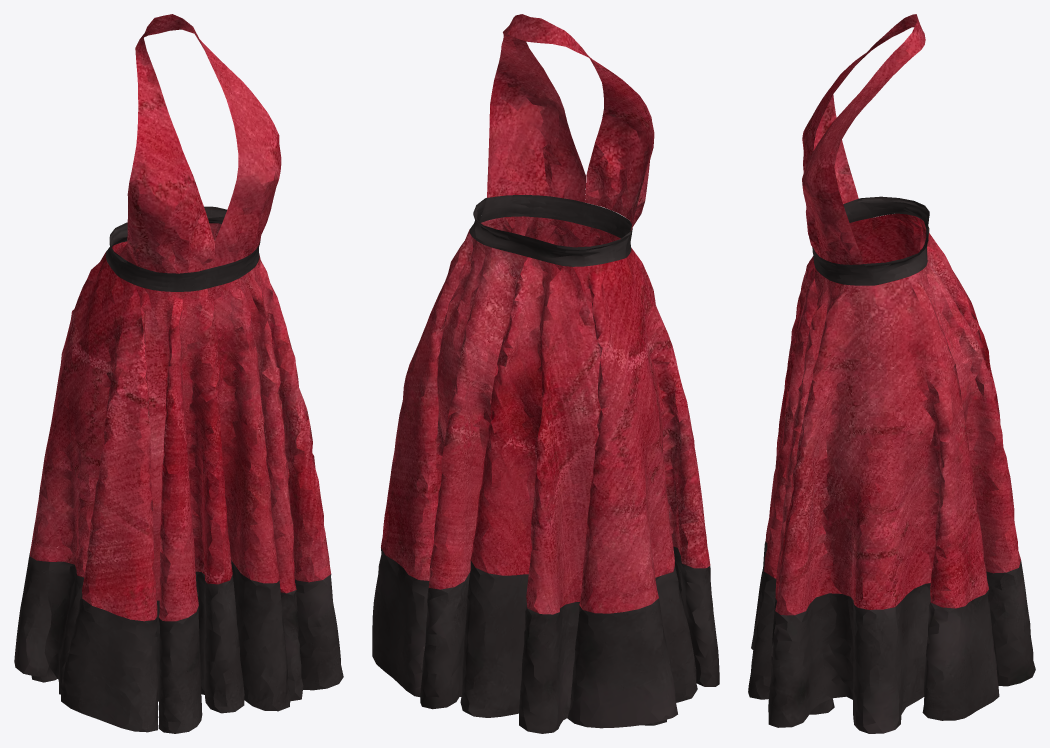
The model's file is elvs-halter-dress-long.glb.
3 views of the same model, side by side, from view 1: azimuth 30°, elevation 25°; view 2: azimuth 150°, elevation 25°; view 3: azimuth 270°, elevation 25° (orthographic). The views are drawn at different scales.
Visible parts, largest first — view 1: halter dress long; view 2: halter dress long; view 3: halter dress long.
Part boxes in pixels (<box>): halter dress long: <box>14,14,343,733</box>; halter dress long: <box>372,14,719,733</box>; halter dress long: <box>748,14,1035,733</box>.
Bounding box in the file's own units: 55.64 × 121 × 47.64.
Materials: 1 (1 with a texture image).
